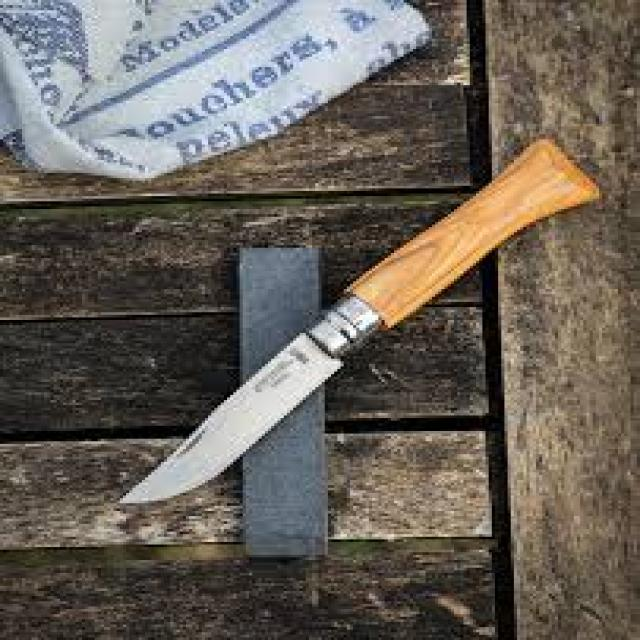knife: (117, 137, 601, 503)
